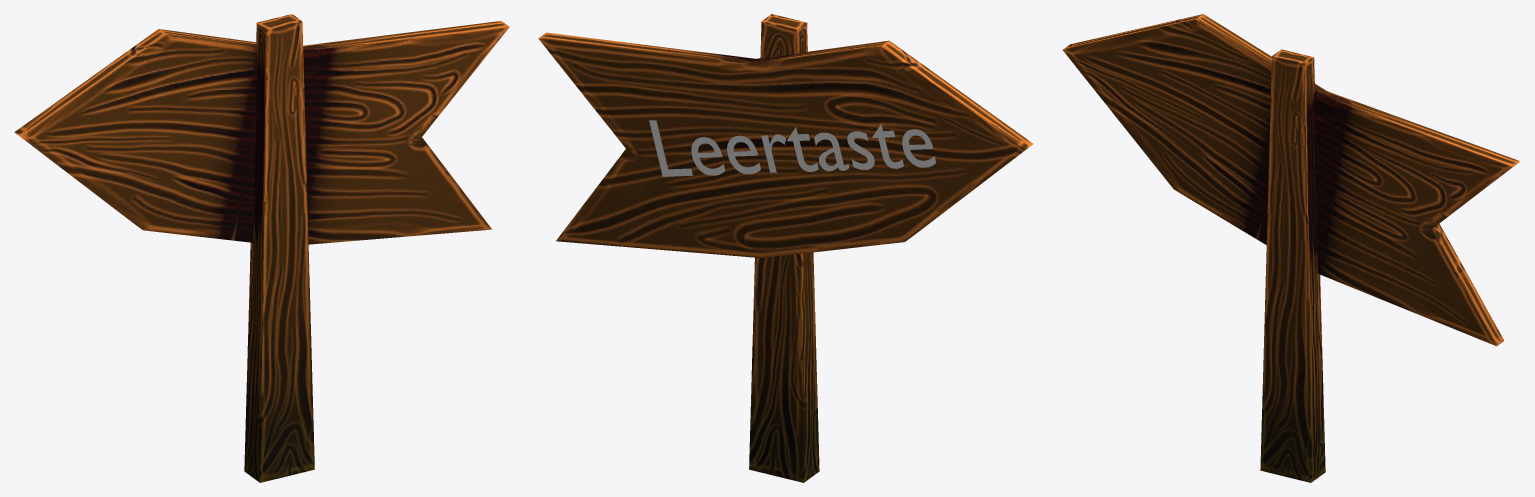
File: sign.fbx
3 renders of one model, left to right at view 1: azimuth 30°, elevation 25°; view 2: azimuth 150°, elevation 25°; view 3: azimuth 330°, elevation 25°, orthographic. The views are drawn at different scales.
Visible parts, largest first — view 1: sign3__0; view 2: sign3__0, Text.004; view 3: sign3__0.
Boxes of the visible parts, bbox=[...] form: sign3__0: bbox=[14, 14, 509, 482]; sign3__0: bbox=[538, 14, 1033, 482]; Text.004: bbox=[649, 120, 936, 176]; sign3__0: bbox=[1063, 14, 1520, 482].
Size of the model in its own units: 195 by 176 by 13.96.
Materials: 1 (1 with a texture image).
